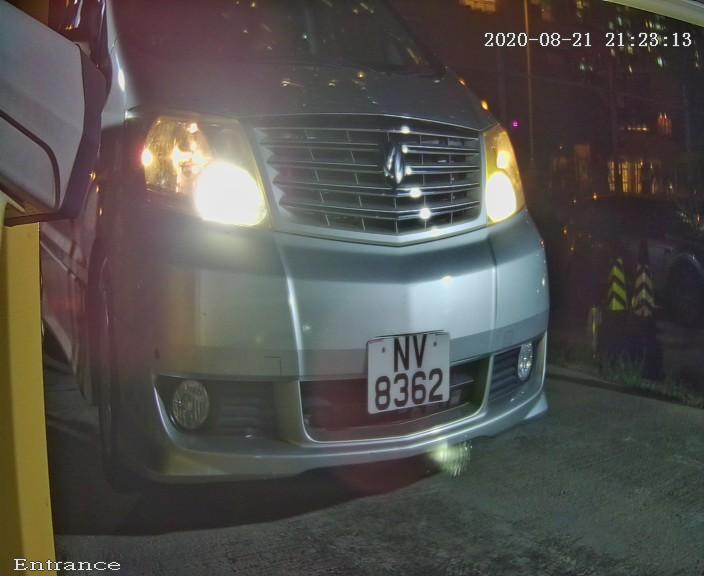Car: (48, 6, 588, 533)
License Plate: (356, 319, 459, 427)
